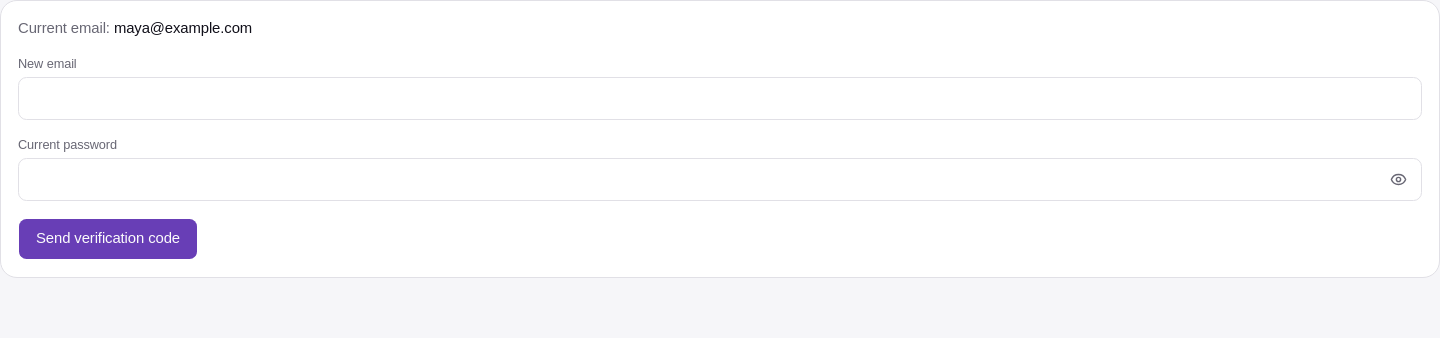
Test: ChangeEmailForm › shows a backend error on the request step without advancing
Type "taken@example.com" into the field labelled "New email".
click(720, 99); type("taken@example.com")  # box top-left (18, 78), bottom-right (1422, 120)
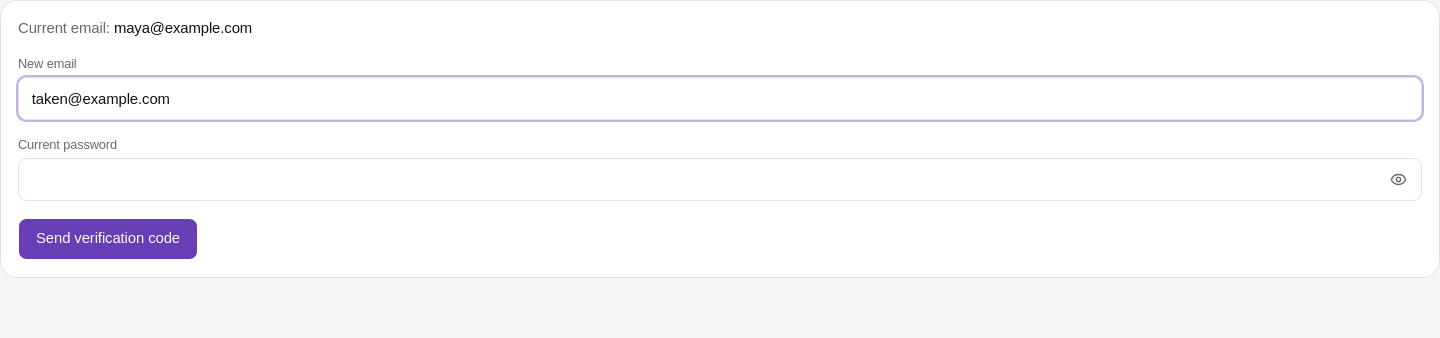
Type "currentpass" into the password field labelled "Current password".
click(720, 179); type("currentpass")  # box top-left (18, 158), bottom-right (1422, 201)
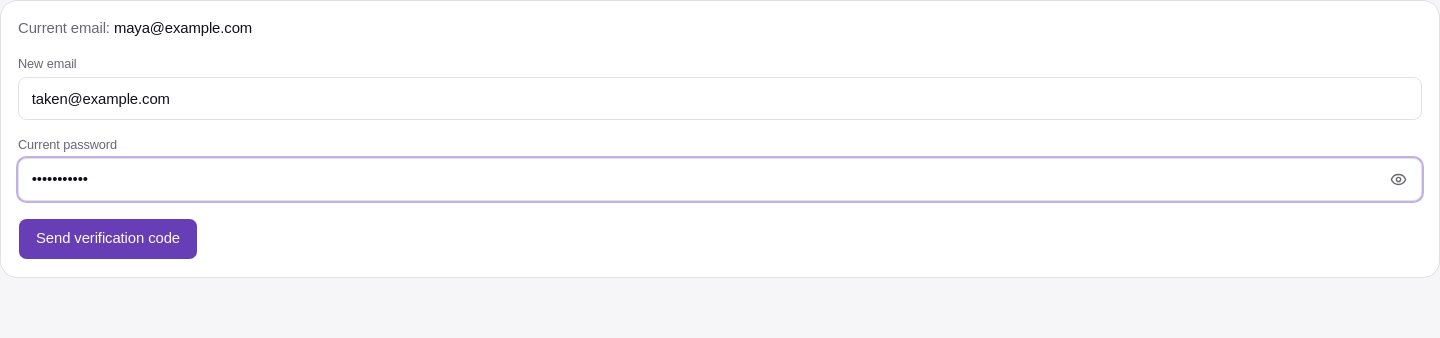
Click the button "Send verification code".
click(108, 239)  # box top-left (18, 218), bottom-right (198, 260)
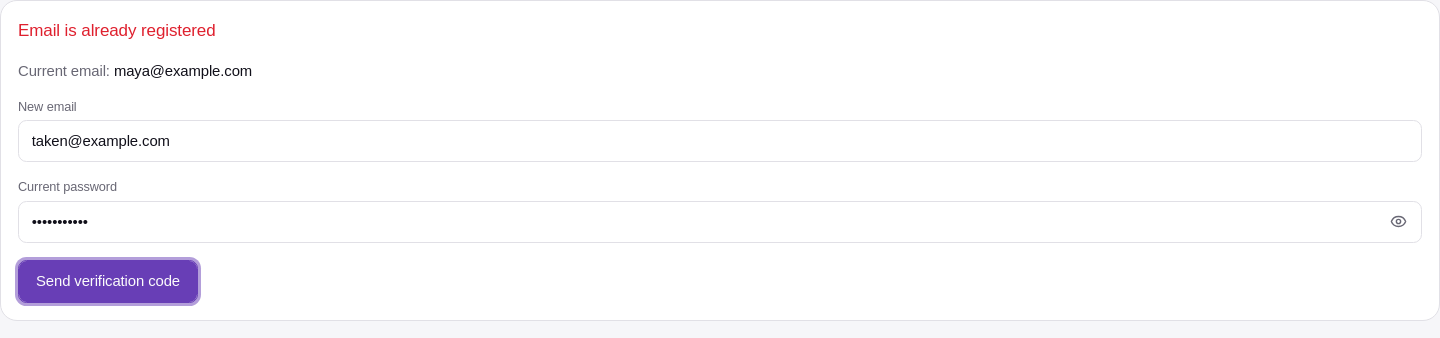
Check: the text "Email is already registered" is shown, box top-left (18, 21), bottom-right (216, 40)
